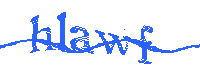a: (69, 25, 95, 54)
f: (135, 25, 155, 66)
h: (29, 15, 55, 52)
l: (56, 11, 69, 53)
w: (95, 29, 133, 56)
